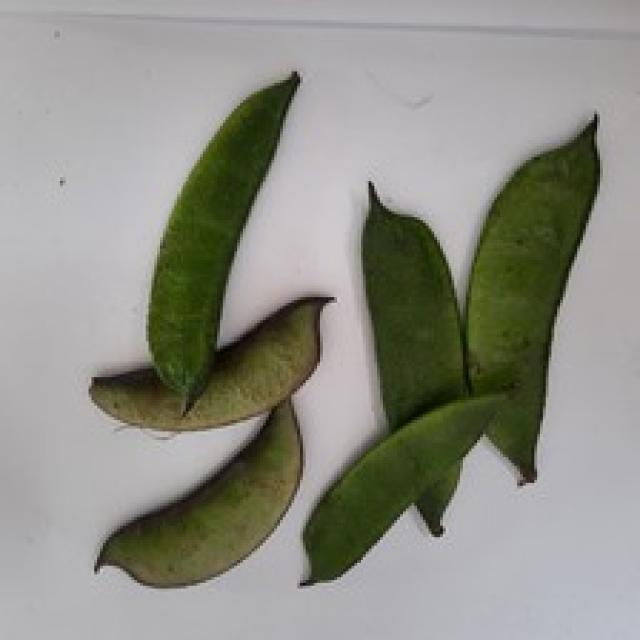Bean: (143, 69, 300, 417), (461, 105, 617, 451), (352, 189, 488, 521), (300, 391, 512, 603), (91, 394, 303, 589), (86, 294, 334, 432)
